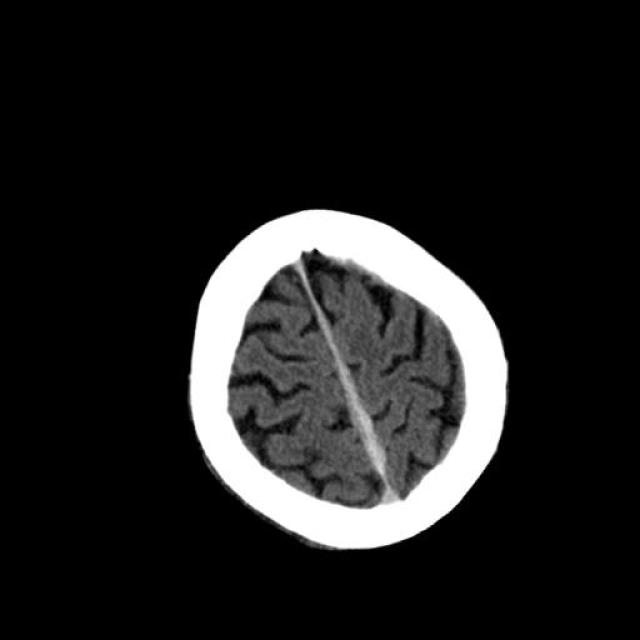Subdural: (263, 235, 432, 533)
